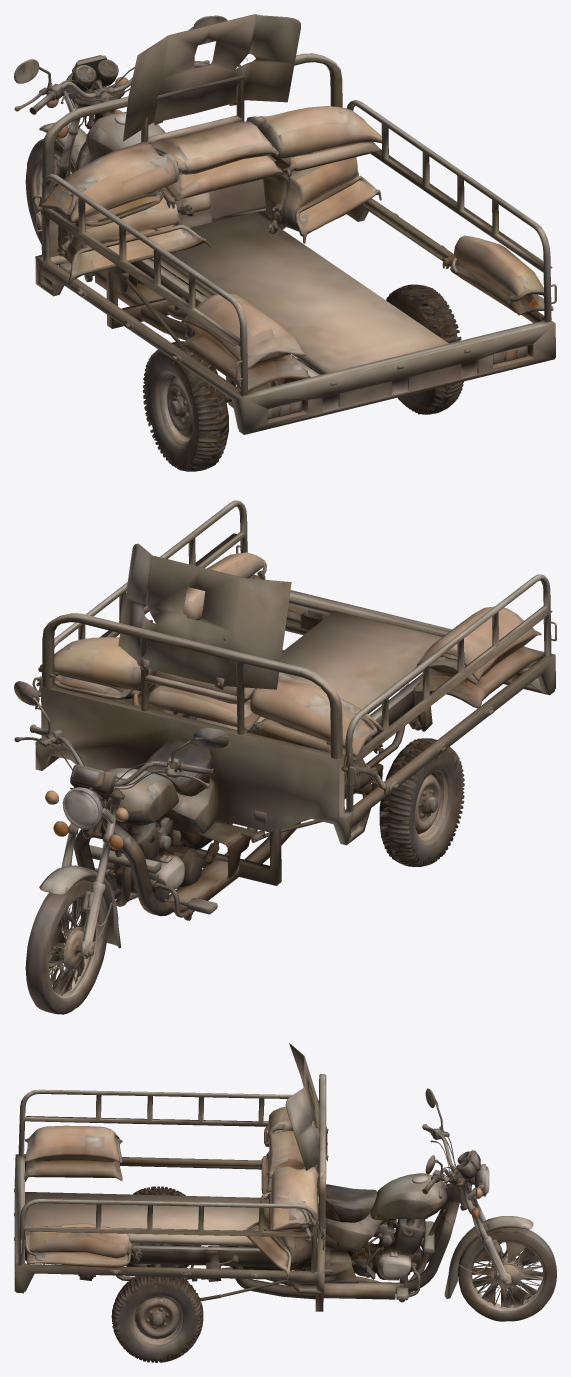
The model's file is ride_bagac.glb.
The picture shows the model from 3 angles, top to bottom: view 1: azimuth 30°, elevation 25°; view 2: azimuth 150°, elevation 25°; view 3: azimuth 270°, elevation 25°; orthographic projection. The views are drawn at different scales.
Parts seen in each view (by area): view 1: tripo_node_bdf5bc9c-3792-4e7c-8be4-3e700774309d; view 2: tripo_node_bdf5bc9c-3792-4e7c-8be4-3e700774309d; view 3: tripo_node_bdf5bc9c-3792-4e7c-8be4-3e700774309d.
Part boxes in pixels (bbox=[...]): tripo_node_bdf5bc9c-3792-4e7c-8be4-3e700774309d: bbox=[14, 14, 556, 471]; tripo_node_bdf5bc9c-3792-4e7c-8be4-3e700774309d: bbox=[14, 500, 556, 1014]; tripo_node_bdf5bc9c-3792-4e7c-8be4-3e700774309d: bbox=[14, 1043, 556, 1362].
Size of the model in its own units: 0.5113 by 0.5084 by 0.9995.
Materials: 1 (1 with a texture image).
